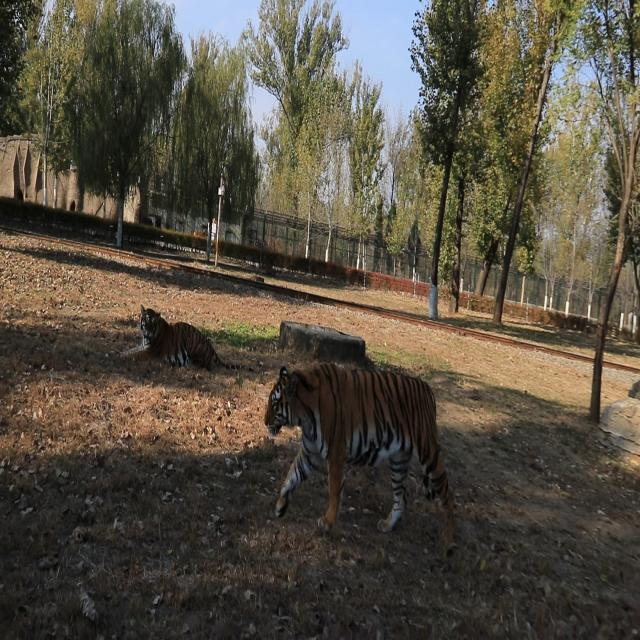Tiger: (253, 355, 460, 561), (110, 295, 232, 377)
